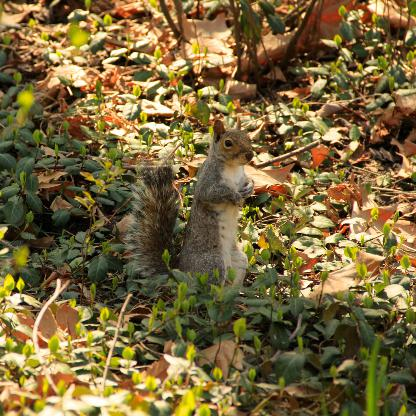Squirrel: (131, 117, 253, 320)
